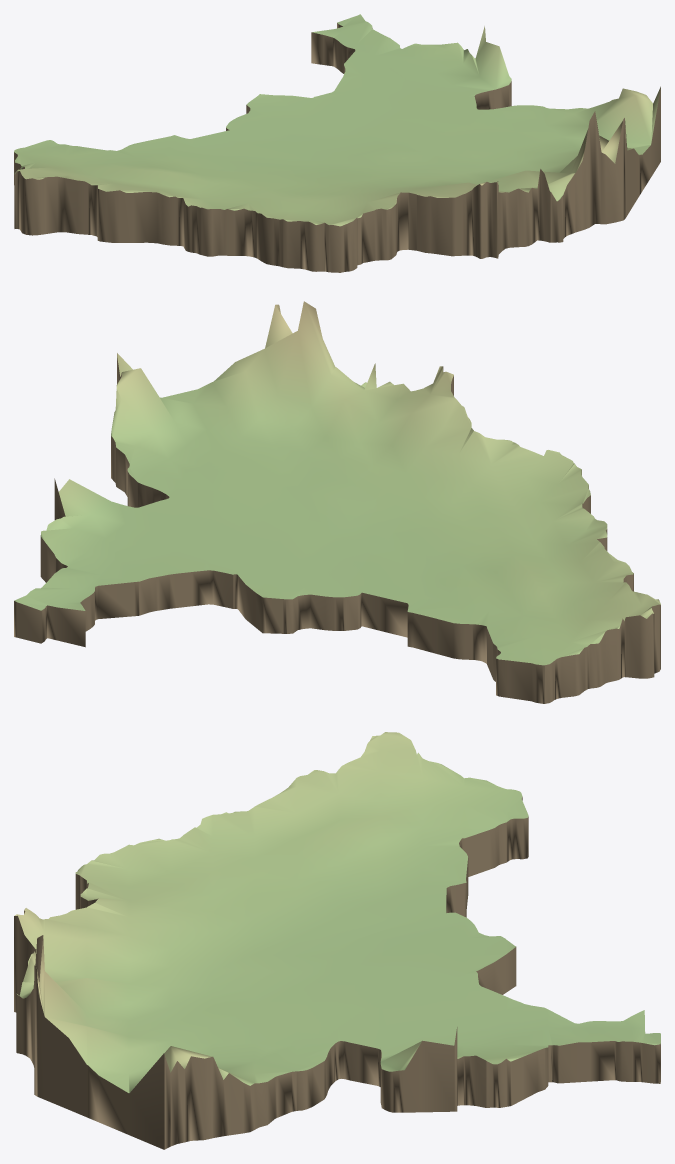
File: SDS.glb
The picture shows the model from 3 angles, top to bottom: view 1: azimuth 30°, elevation 25°; view 2: azimuth 150°, elevation 25°; view 3: azimuth 270°, elevation 25°; orthographic projection. The views are drawn at different scales.
Parts seen in each view (by area): view 1: SDS; view 2: SDS; view 3: SDS.
Boxes of the visible parts, x1,y1,x2,y2 form: SDS: (14, 14, 660, 272); SDS: (14, 301, 660, 703); SDS: (14, 732, 660, 1149).
Size of the model in its own units: 1.73 by 0.338 by 1.37.
